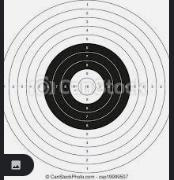bulls eye: (4, 1, 169, 174)
